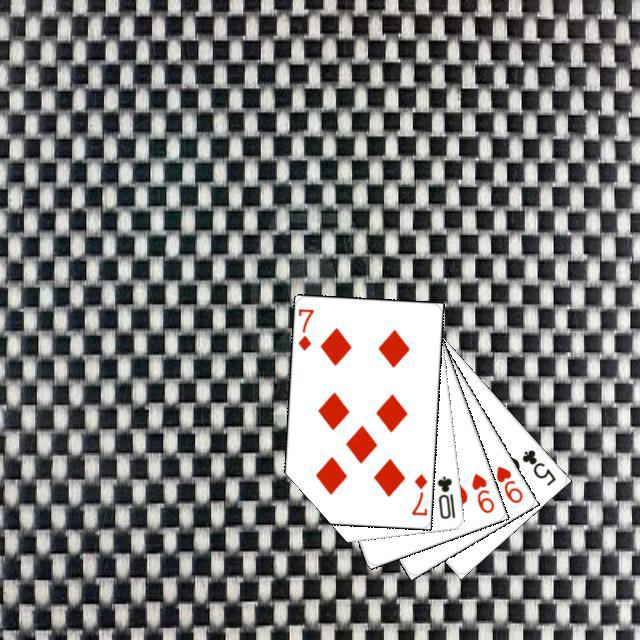10c: (432, 471, 457, 521)
5c: (517, 445, 558, 488)
7d: (407, 469, 429, 517), (293, 304, 315, 352)
9h: (491, 461, 525, 505), (467, 468, 496, 515)
